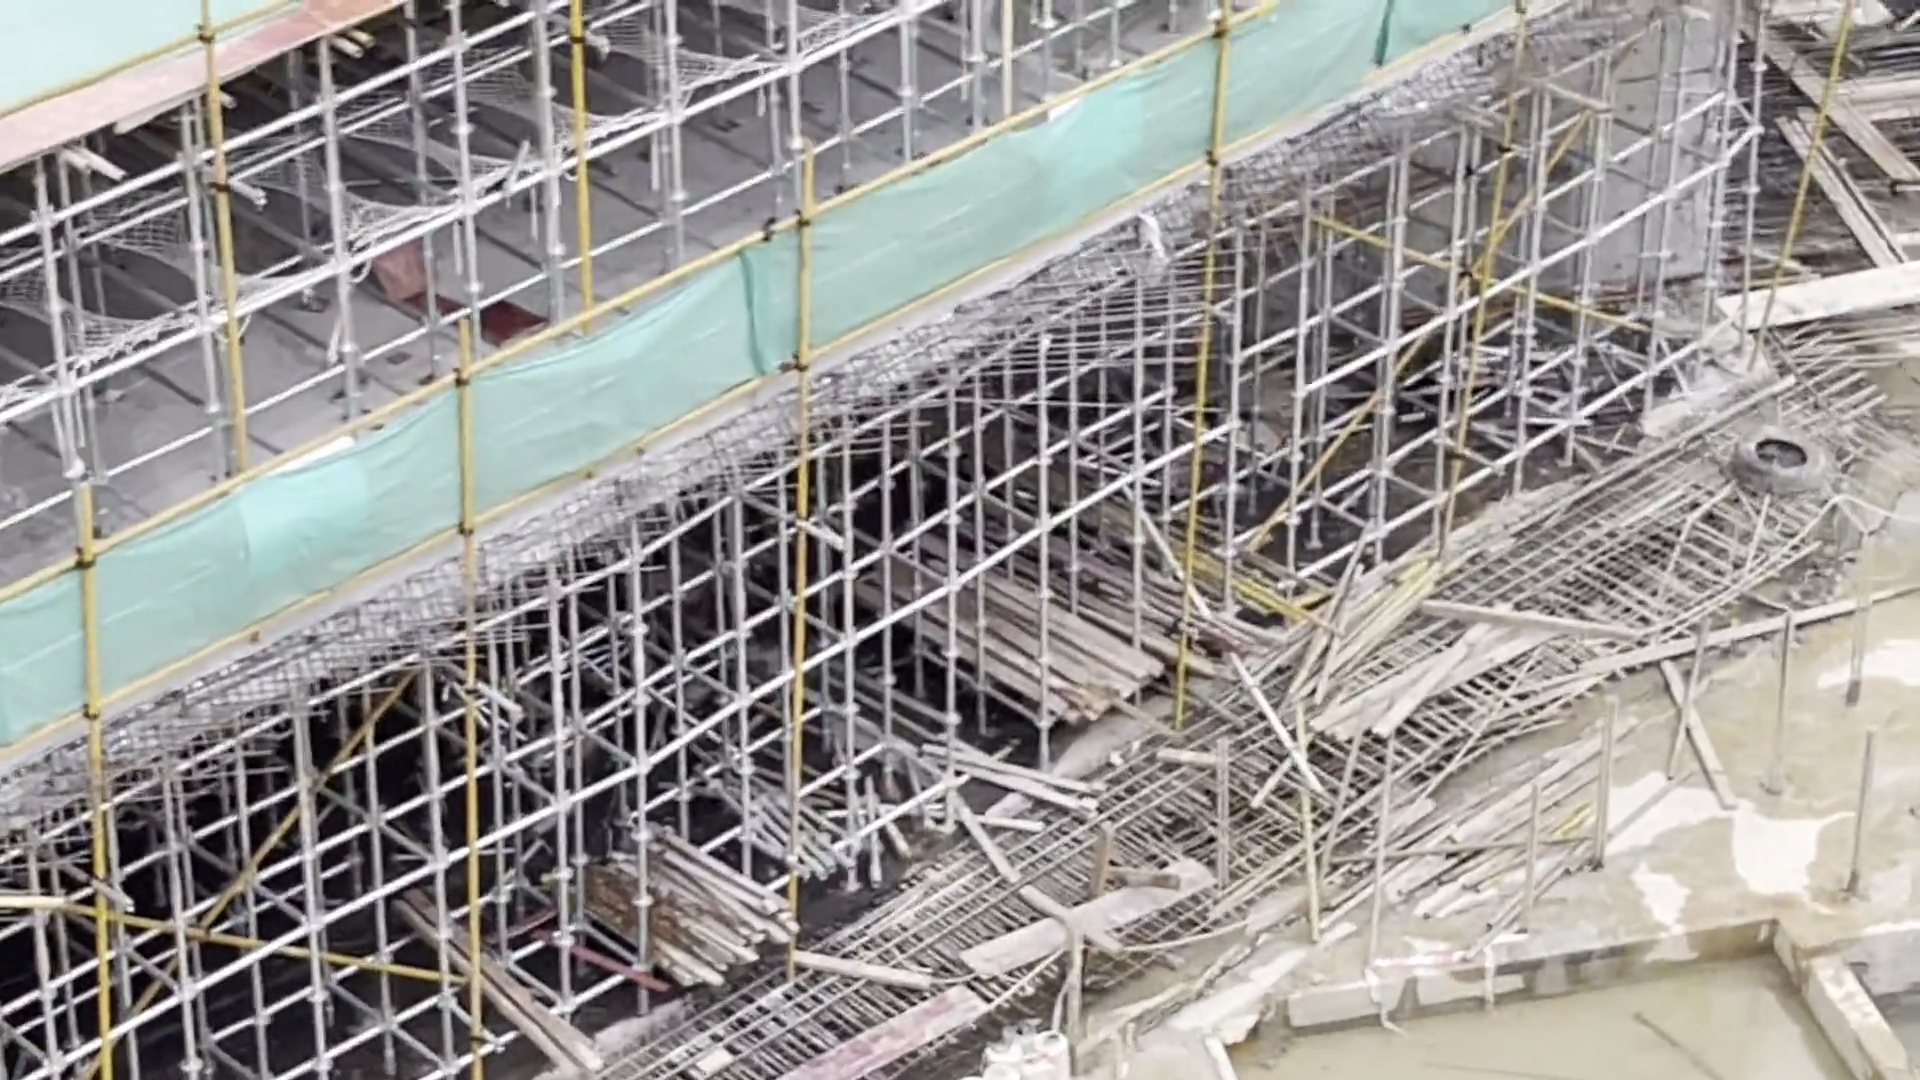wood: (852, 513, 1174, 742), (518, 796, 803, 993)
